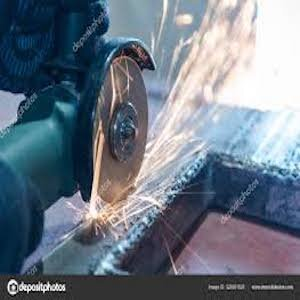heat: (87, 4, 241, 233)
